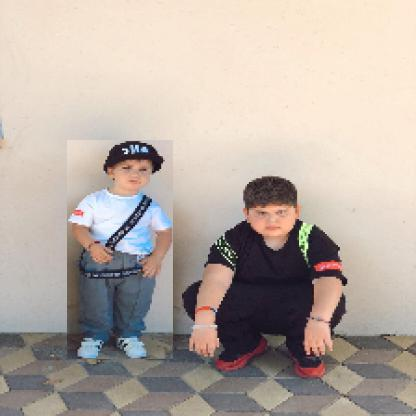child: (68, 141, 175, 362)
